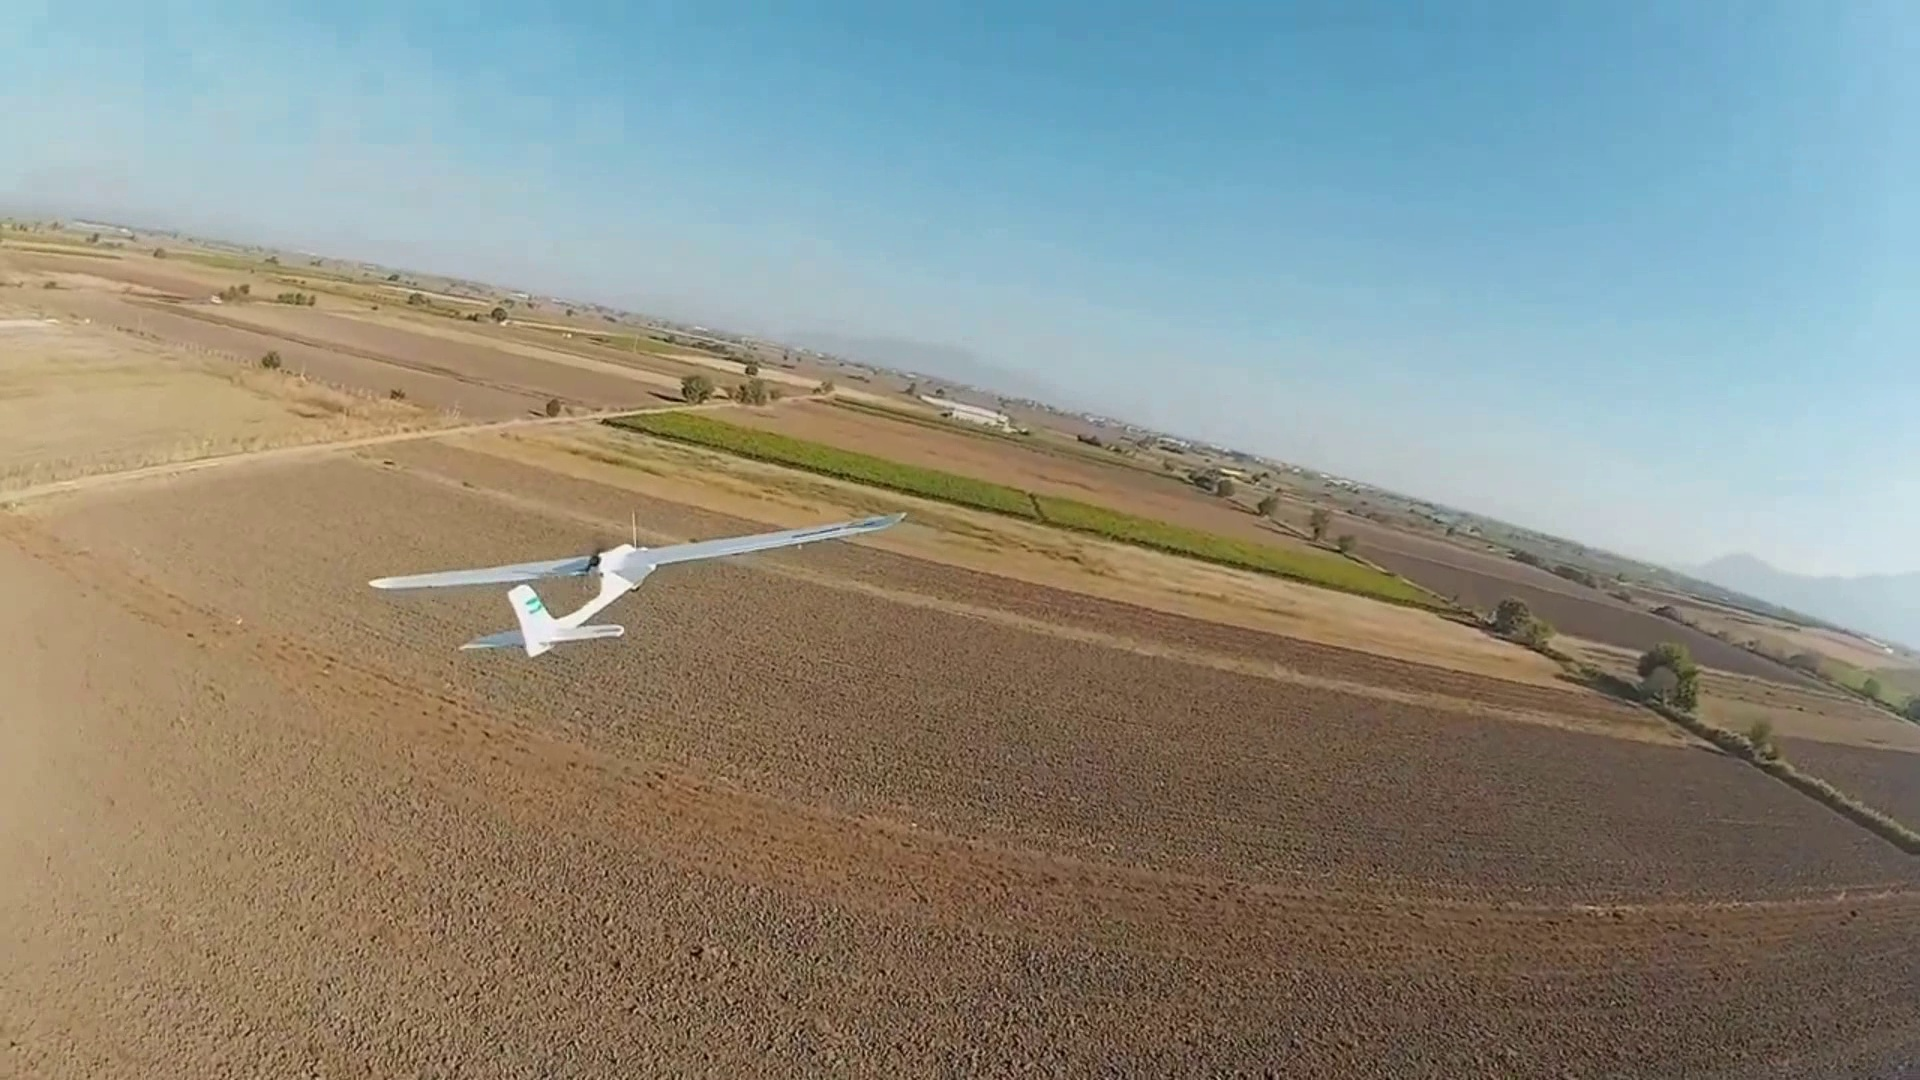airplane: (365, 513, 907, 659)
